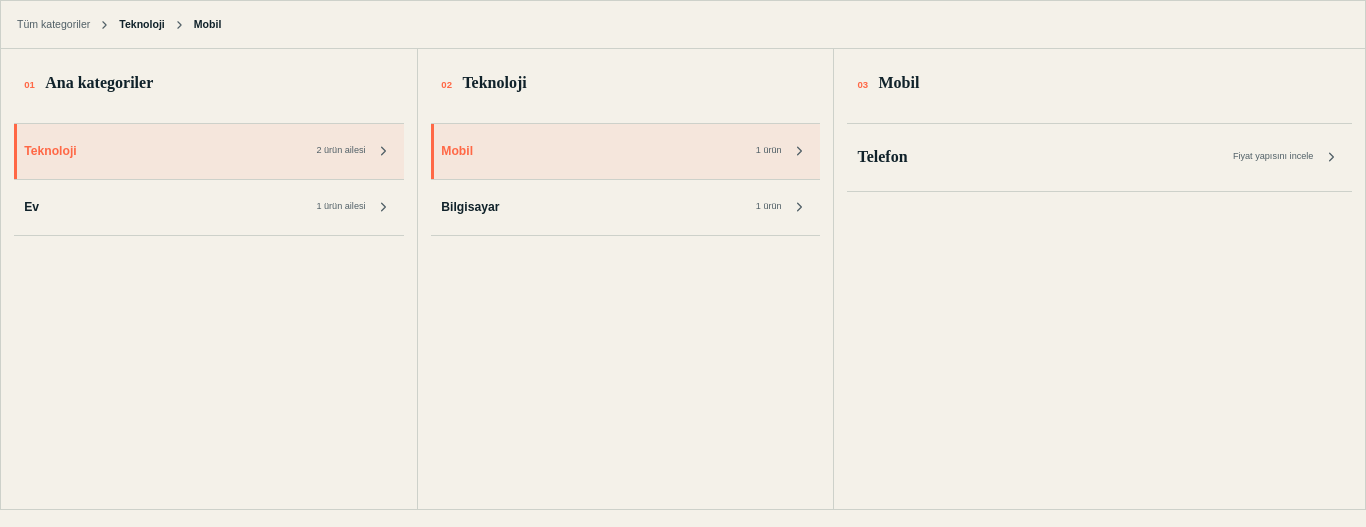
it: CategoryBrowser › drills from main category to family and product
Click the button "Ev 1 ürün ailesi" at (345,206), box [14,180,404,236]
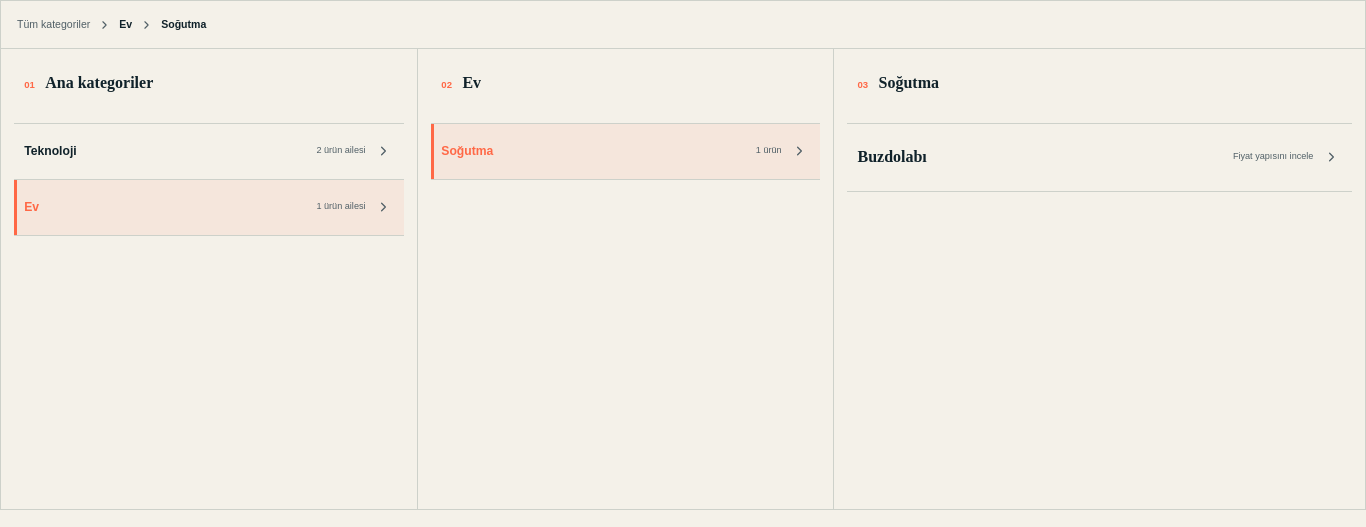
Result: the button "Soğutma 1 ürün" is shown at [431,124,820,180]
